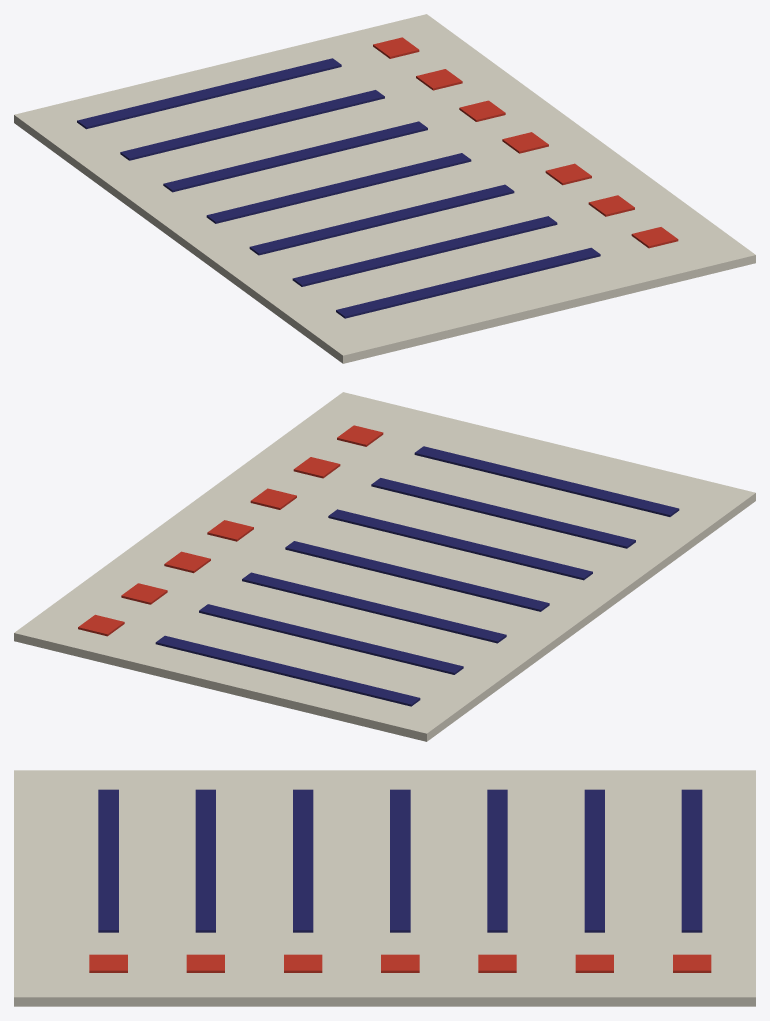
File: neighborhood_list.glb
The picture shows the model from 3 angles, top to bottom: view 1: azimuth 30°, elevation 25°; view 2: azimuth 150°, elevation 25°; view 3: azimuth 270°, elevation 25°; orthographic projection. The views are drawn at different scales.
Visible parts, largest first — view 1: paper_paper, lines_ink, ticks_ink_red; view 2: paper_paper, lines_ink, ticks_ink_red; view 3: paper_paper, lines_ink, ticks_ink_red.
Boxes of the visible parts, x1,y1,x2,y2 form: paper_paper: [14, 14, 755, 363]; lines_ink: [77, 58, 600, 318]; ticks_ink_red: [373, 37, 678, 248]; paper_paper: [14, 392, 755, 741]; lines_ink: [155, 446, 679, 706]; ticks_ink_red: [78, 425, 383, 636]; paper_paper: [14, 770, 755, 1006]; lines_ink: [98, 789, 702, 932]; ticks_ink_red: [89, 954, 711, 972].
Size of the model in its own units: 0.21 by 0.005 by 0.29.
